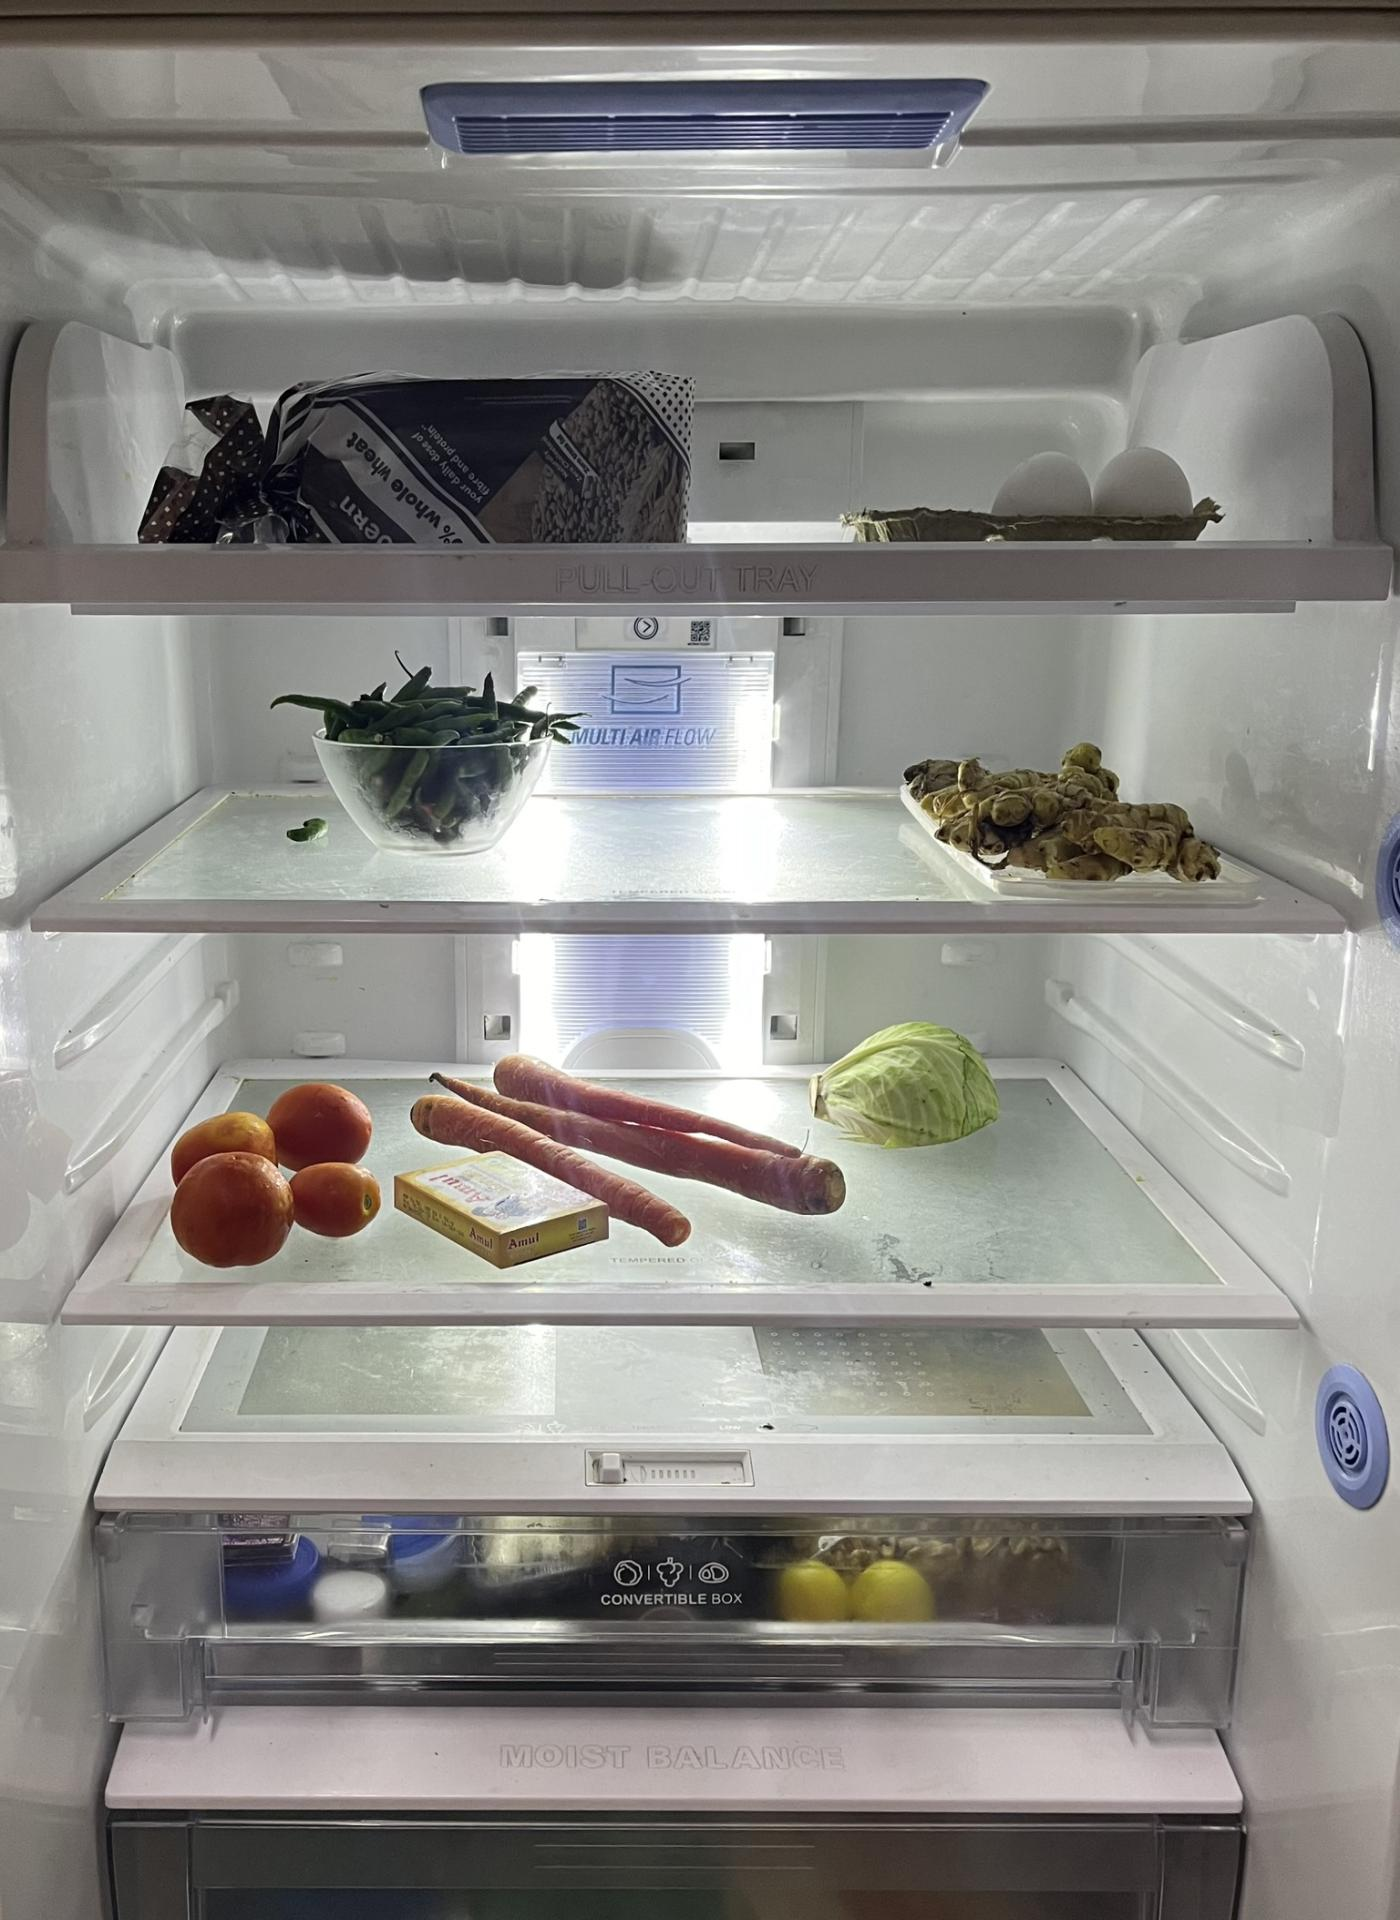bread: (128, 385, 689, 550)
butter: (404, 1149, 605, 1254)
cabbage: (807, 1023, 1008, 1151)
carrots: (400, 1064, 854, 1254)
chillies: (322, 678, 552, 845)
egg: (1006, 434, 1206, 553)
ginger: (908, 751, 1242, 887)
tomato: (173, 1076, 386, 1260)
